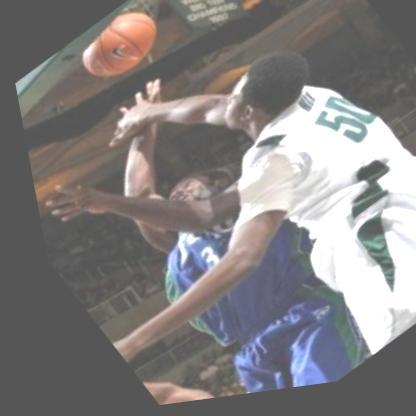basketball: (52, 0, 186, 103)
